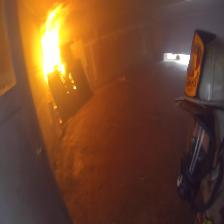fire: (35, 11, 68, 71)
